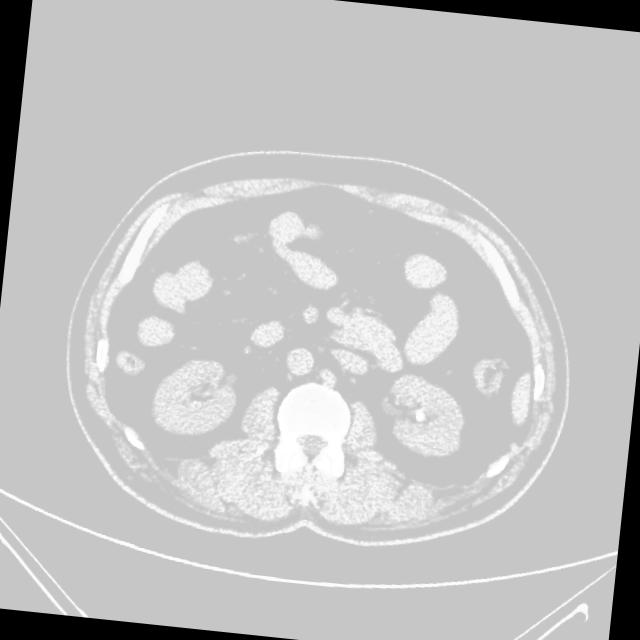STONE: (117, 261, 506, 490)
